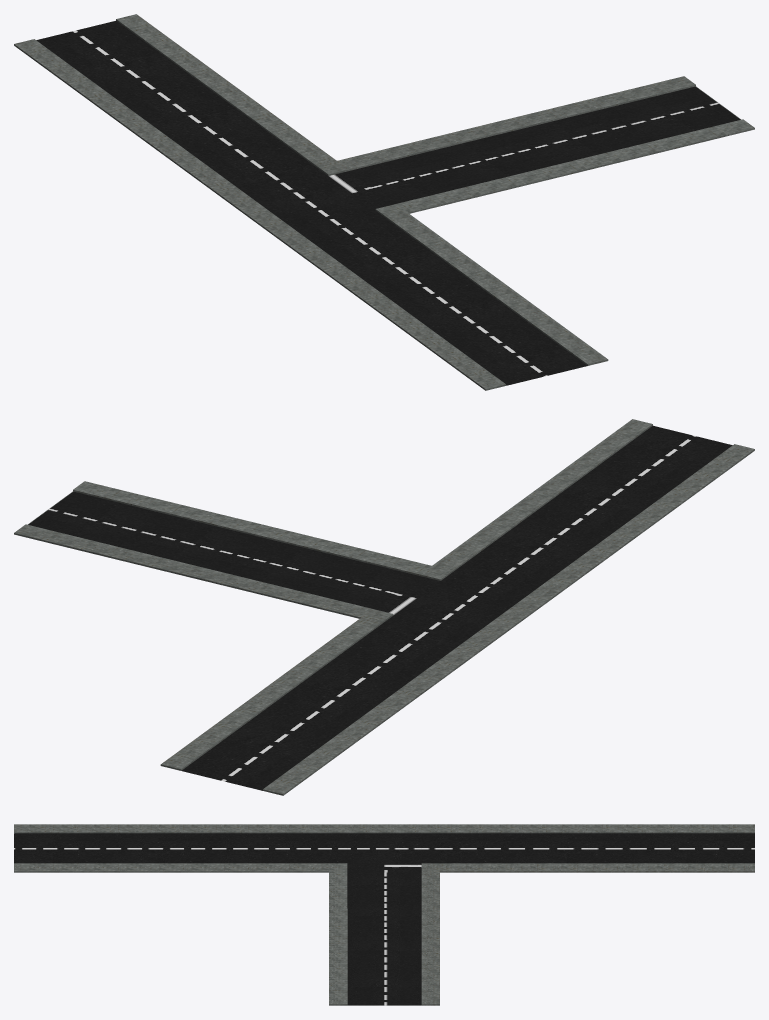
Rendered from troad.fbx.
3 renders of one model, top to bottom at view 1: azimuth 30°, elevation 25°; view 2: azimuth 150°, elevation 25°; view 3: azimuth 270°, elevation 25°, orthographic. The views are drawn at different scales.
Parts seen in each view (by area): view 1: troad_dashed; view 2: troad_dashed; view 3: troad_dashed.
Part boxes in pixels (<box>): troad_dashed: <box>14,14,754,390</box>; troad_dashed: <box>14,419,754,795</box>; troad_dashed: <box>14,824,754,1005</box>.
Bounding box in the file's own units: 4600 × 15 × 8001.
Materials: 1 (1 with a texture image).
